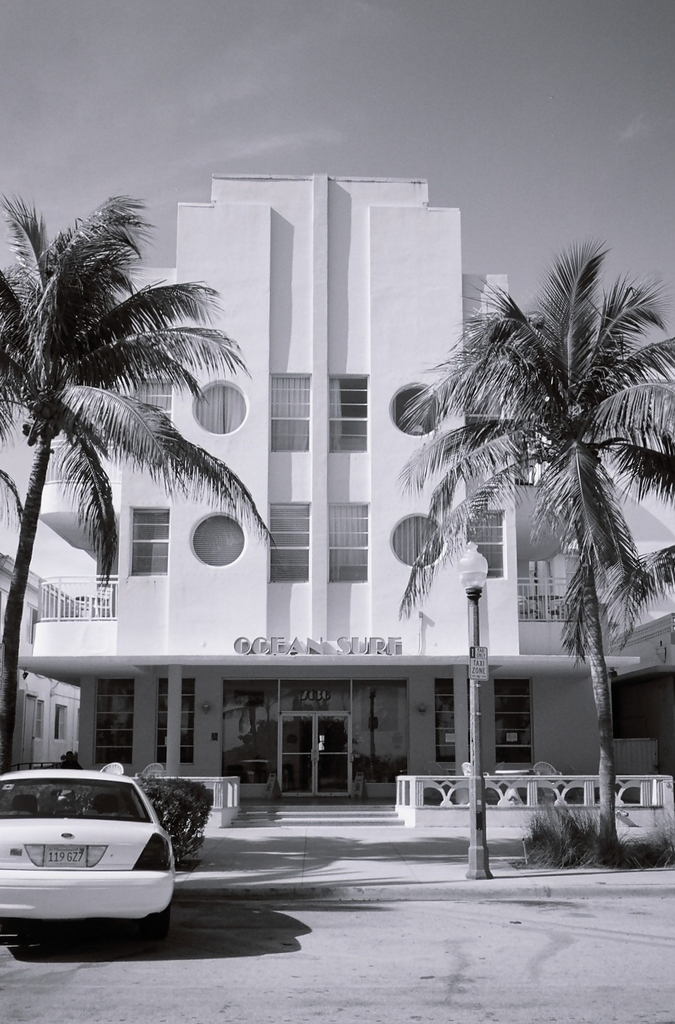Car: (0, 766, 175, 947)
